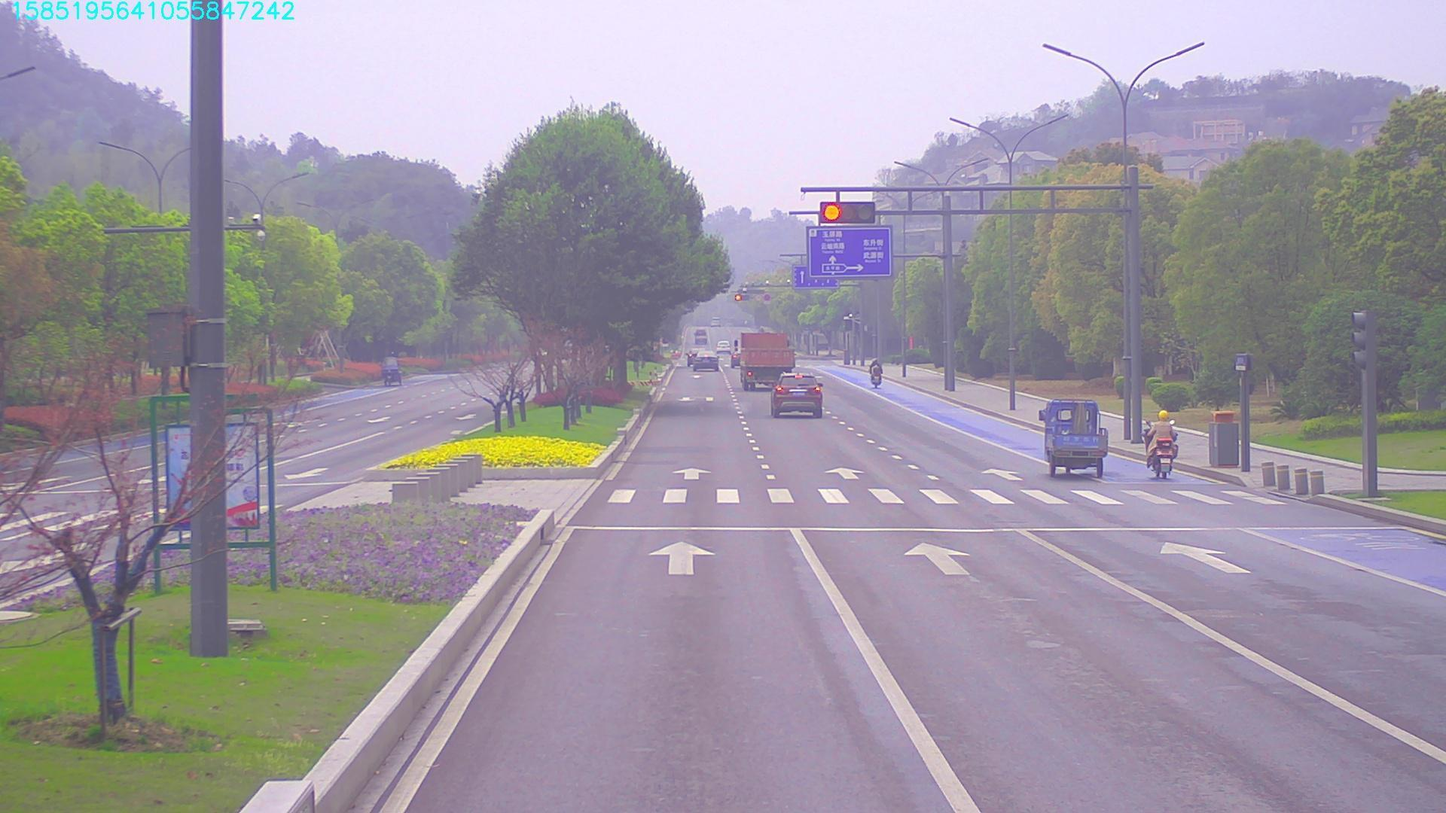red: (822, 200, 873, 219)
